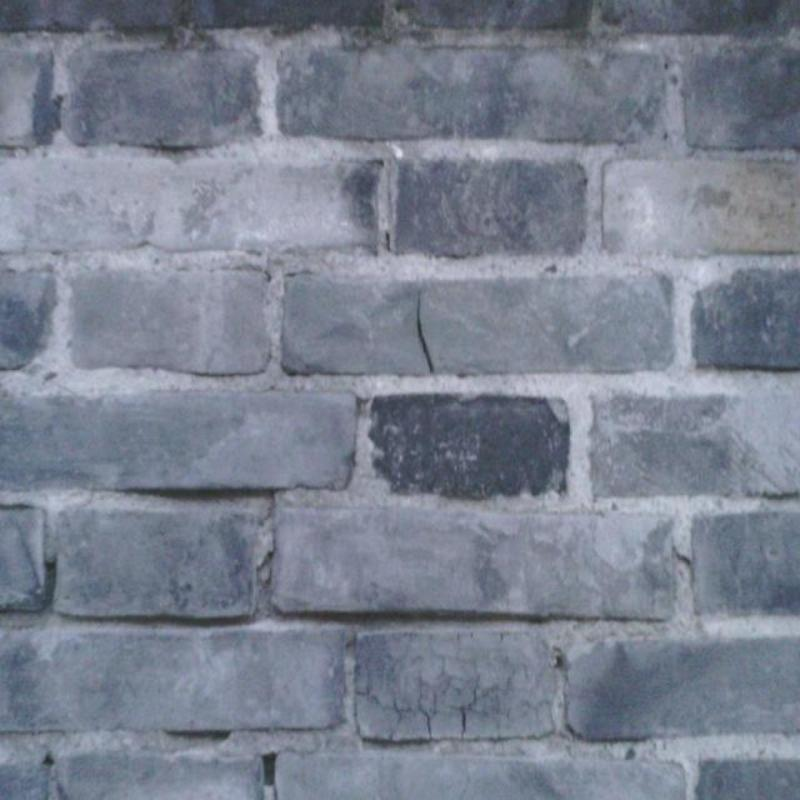crack: (417, 293, 434, 373), (262, 752, 278, 784)
